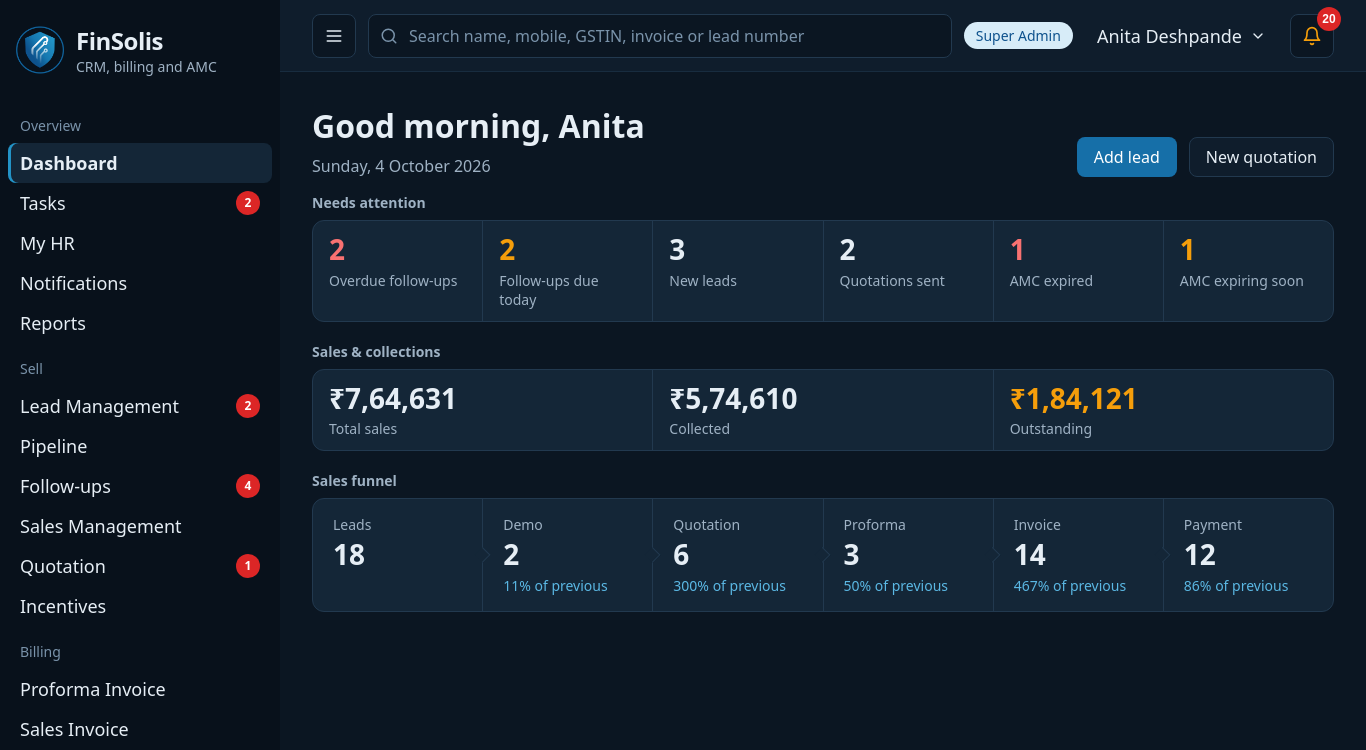
it: App › navigates from the sidebar
Click the button "Tasks 2".
click(43, 203)  # box [8, 183, 272, 223]
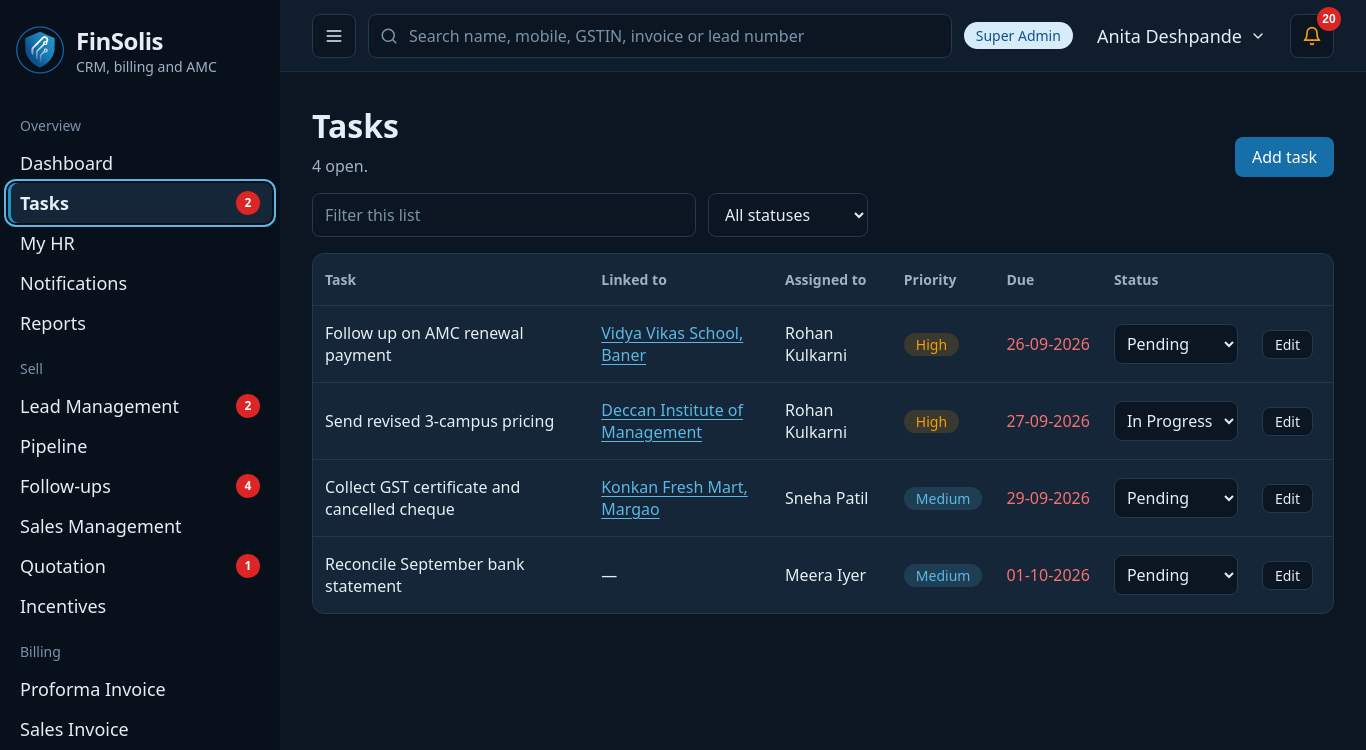
Expected: the heading "Tasks" is shown, [312, 104, 399, 147]
